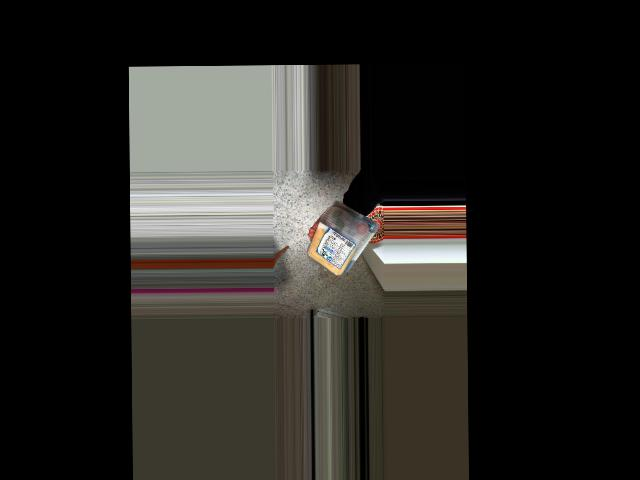cheese: (314, 211, 351, 277)
